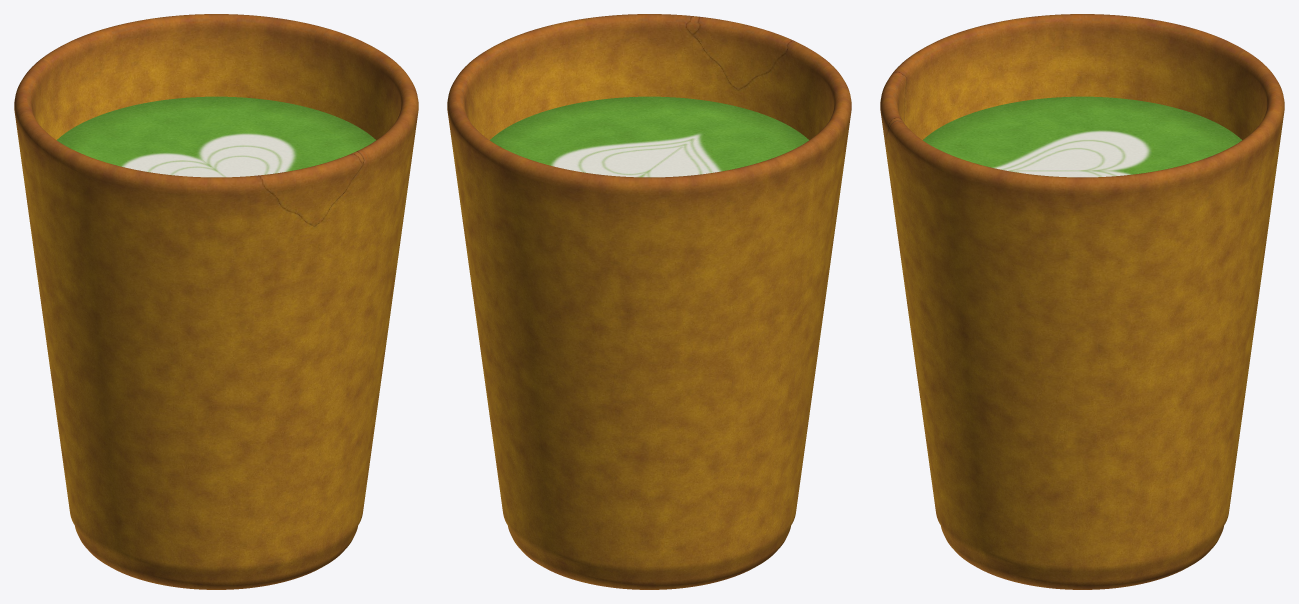
File: cup_nobite.glb
3 renders of one model, left to right at view 1: azimuth 30°, elevation 25°; view 2: azimuth 150°, elevation 25°; view 3: azimuth 270°, elevation 25°, orthographic.
Parts seen in each view (by area): view 1: Cup, Latte; view 2: Cup, Latte; view 3: Cup, Latte.
Part boxes in pixels (x1=…): Cup: x1=14, y1=14, x2=418, y2=589; Latte: x1=57, y1=96, x2=375, y2=177; Cup: x1=447, y1=14, x2=851, y2=589; Latte: x1=490, y1=96, x2=808, y2=177; Cup: x1=880, y1=14, x2=1284, y2=589; Latte: x1=923, y1=96, x2=1241, y2=177.
Bounding box in the file's own units: 1.7 × 2.05 × 1.7.
Materials: 2 (2 with a texture image).
